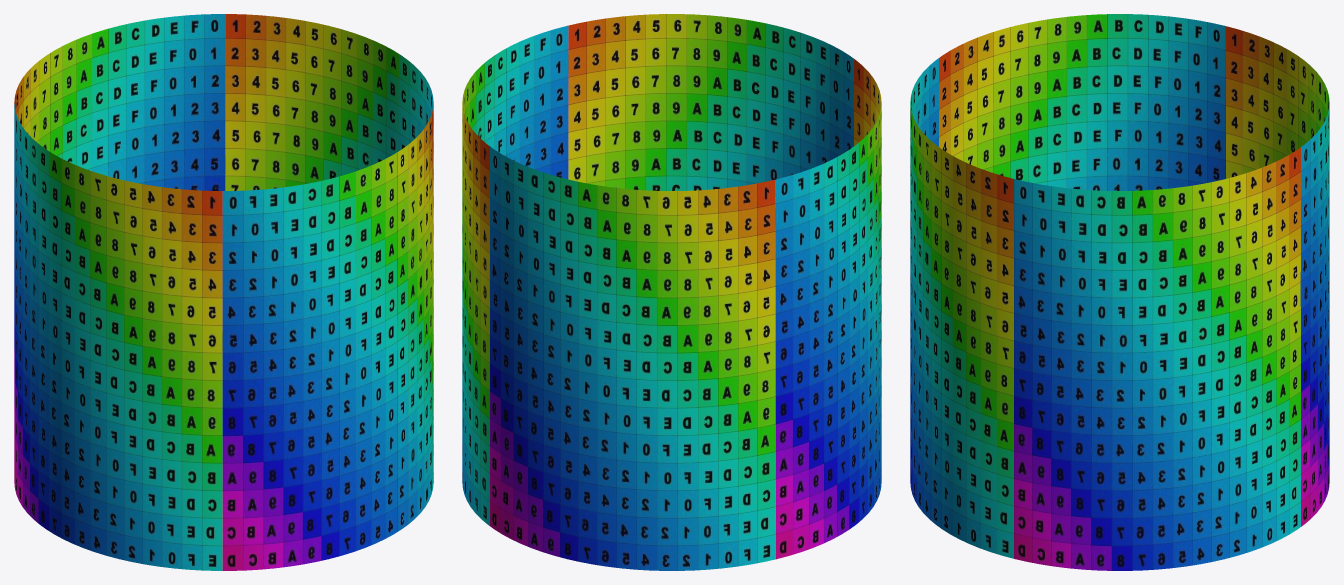
The model's file is Tunnel_straight_scaled.dae.
3 views of the same model, side by side, from view 1: azimuth 30°, elevation 25°; view 2: azimuth 150°, elevation 25°; view 3: azimuth 270°, elevation 25° (orthographic).
Visible parts, largest first — view 1: SketchUp; view 2: SketchUp; view 3: SketchUp.
Part boxes in pixels (x1=…): SketchUp: x1=14, y1=14, x2=433, y2=570; SketchUp: x1=462, y1=14, x2=881, y2=570; SketchUp: x1=910, y1=14, x2=1329, y2=570.
Bounding box in the file's own units: 0.9994 × 1 × 1.
1 material, 1 textured.
